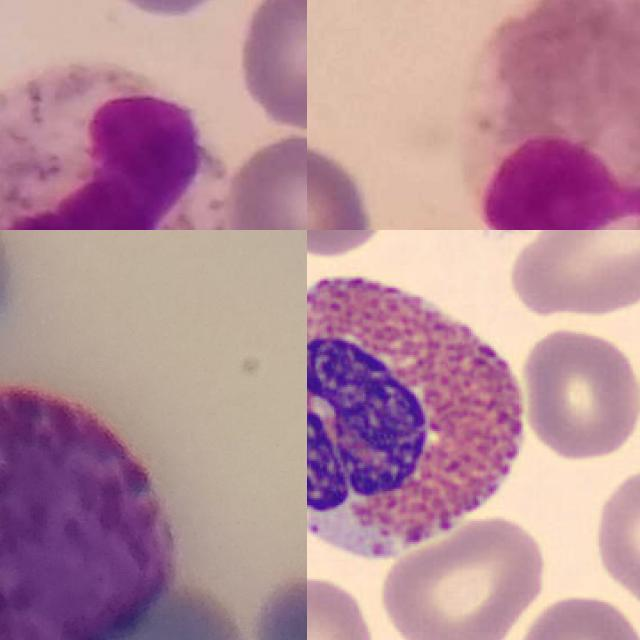Basophil: (0, 386, 178, 640)
Eosinophil: (307, 245, 544, 577), (457, 0, 640, 230)
Neutrophil: (0, 69, 228, 230)
RBC: (375, 512, 551, 640), (513, 323, 640, 464), (503, 230, 640, 325), (591, 457, 640, 623), (510, 589, 640, 640), (307, 572, 378, 640)
